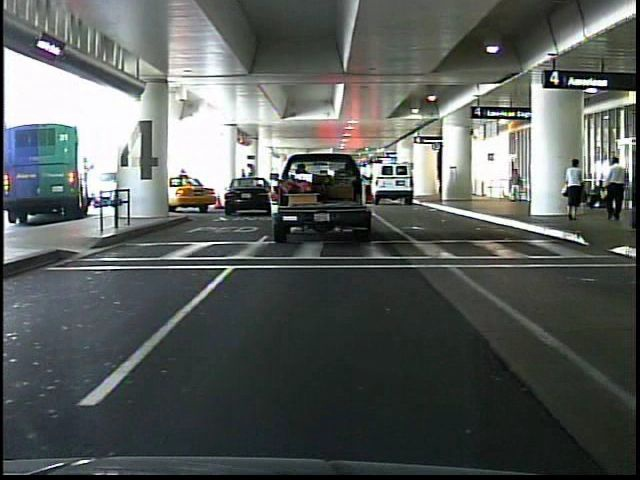person: (561, 153, 587, 225), (605, 154, 628, 225), (507, 162, 525, 206)
